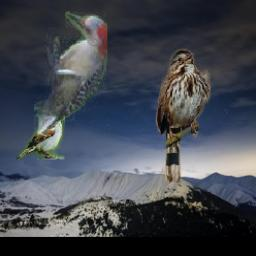Sparrow: (157, 50, 212, 184), (15, 110, 65, 160)
Woodpecker: (35, 12, 108, 138)
